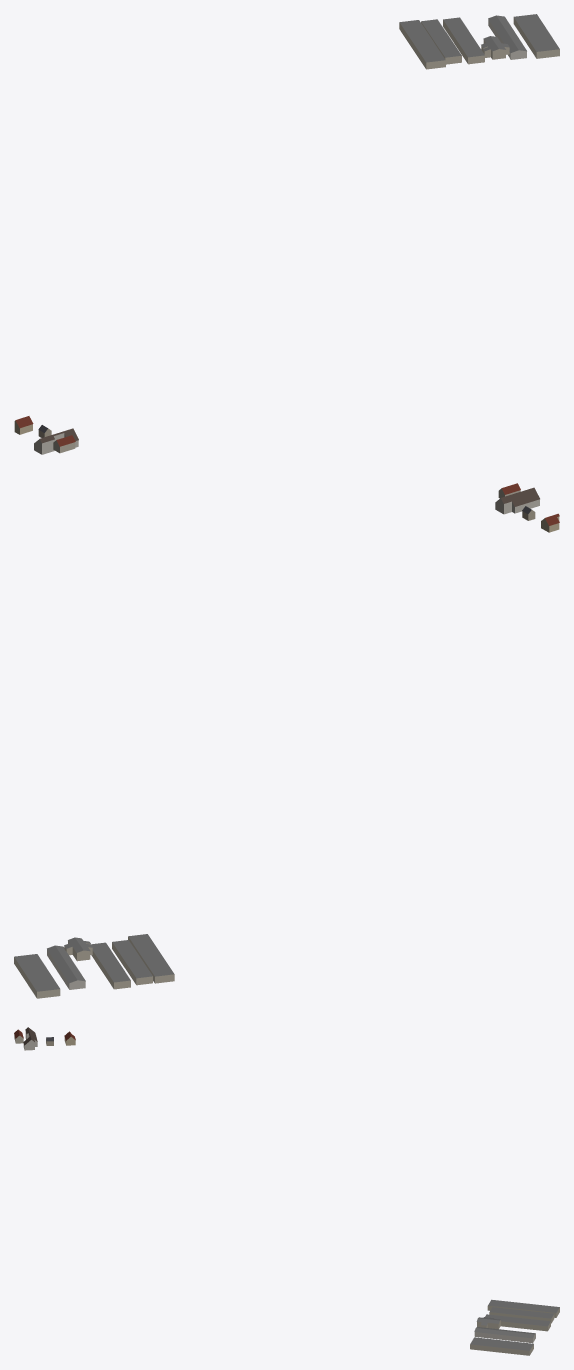
3 renders of one model, top to bottom at view 1: azimuth 30°, elevation 25°; view 2: azimuth 210°, elevation 25°; view 3: azimuth 270°, elevation 25°, orthographic. The views are drawn at different scales.
Parts seen in each view (by area): view 1: buildings; view 2: buildings; view 3: buildings.
Part boxes in pixels (box(x1,y1,x2,y2)): buildings: box(14, 14, 559, 454); buildings: box(14, 483, 559, 998); buildings: box(14, 1027, 559, 1355).
Size of the model in its own units: 767 by 41.61 by 598.
